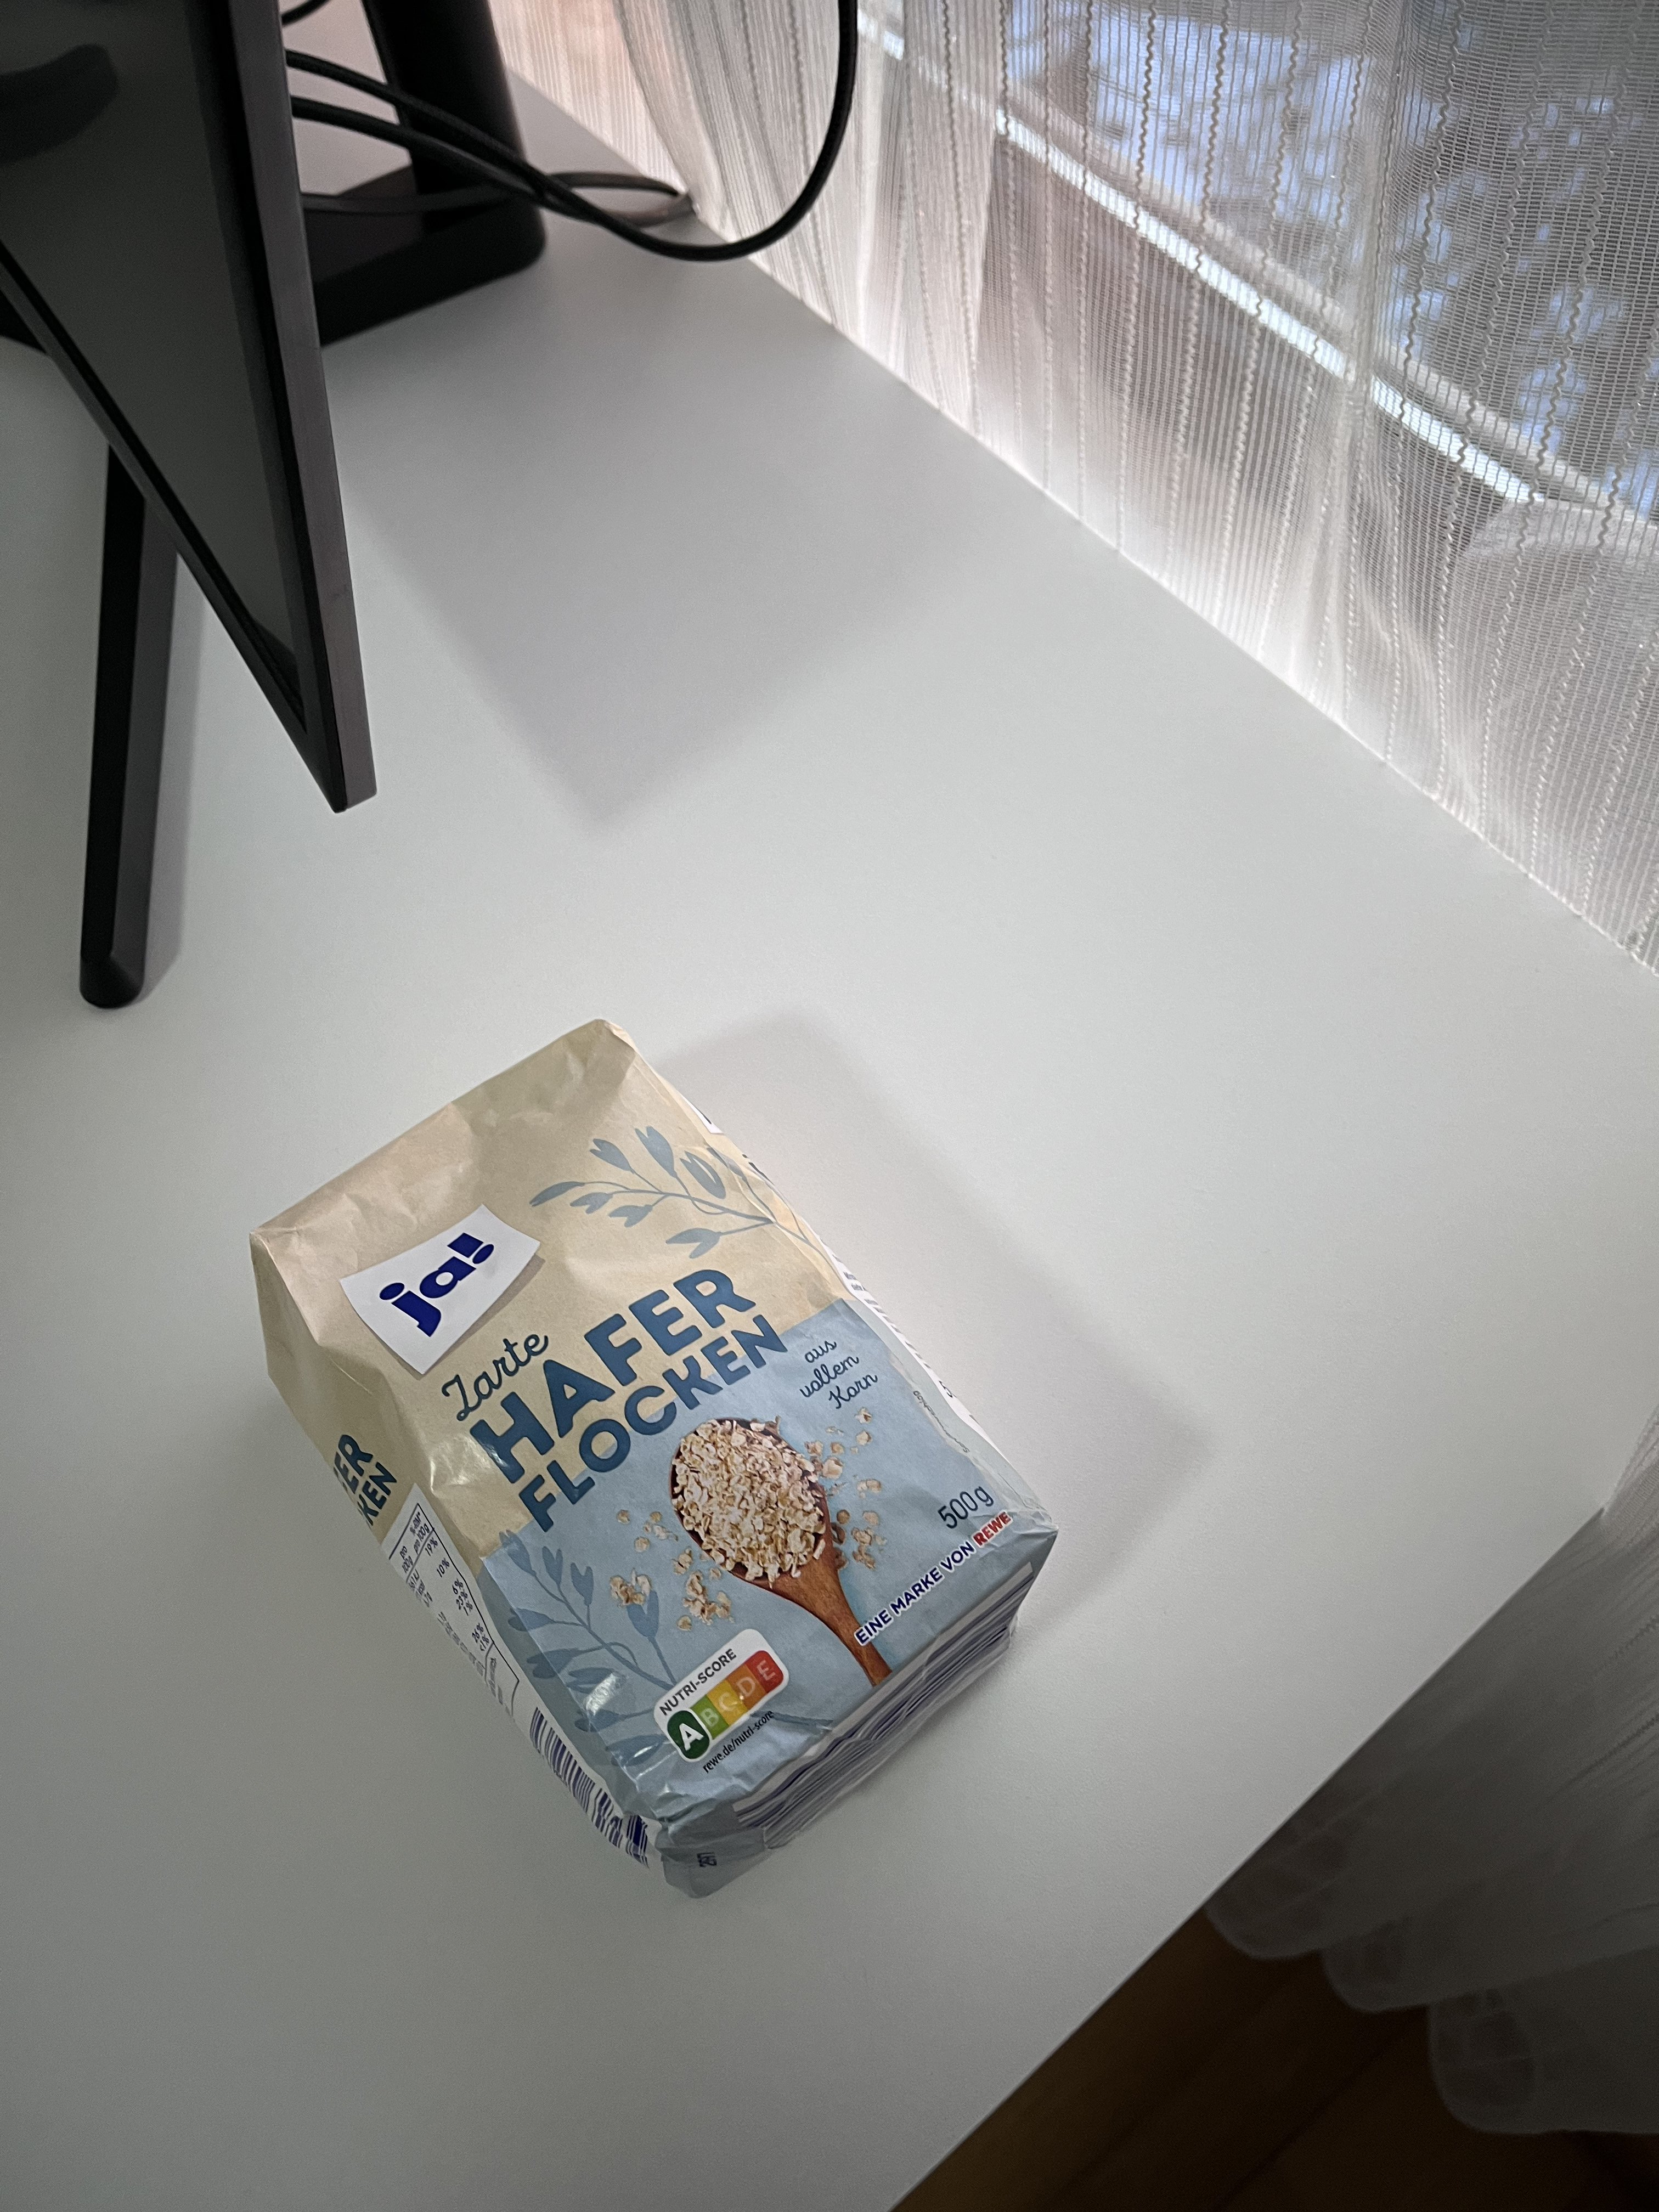haferflocken_ja: (256, 1017, 1058, 1888)
